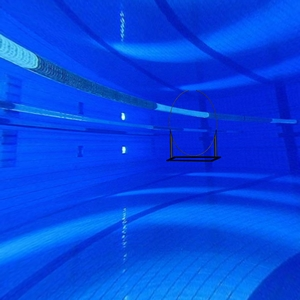circle: (166, 88, 222, 166)
